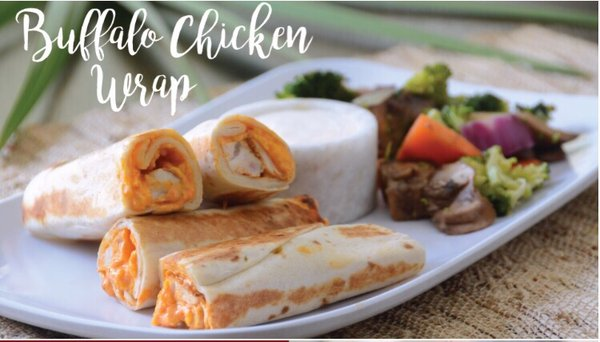curry: (461, 145, 551, 217), (275, 71, 361, 102)
